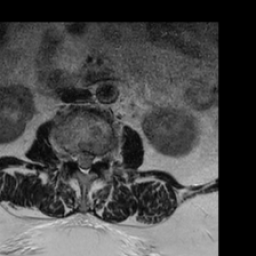CCS_normal: (81, 142, 88, 179)
LFS_stenosis: (96, 144, 104, 168)
LLS_normal: (88, 144, 96, 171)
RFS_normal: (66, 144, 74, 168)
RLS_normal: (74, 145, 81, 170)
